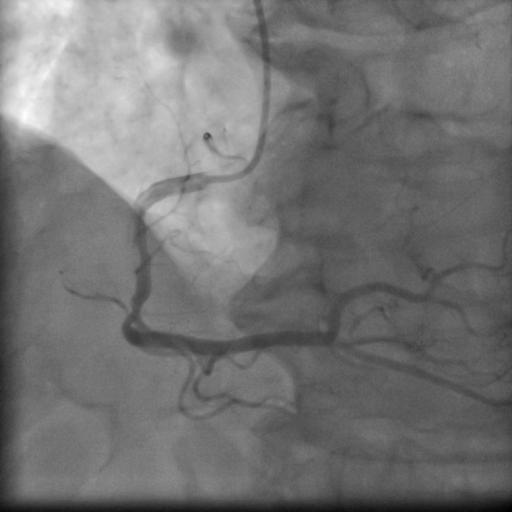Stenosis: (117, 202, 156, 323)
